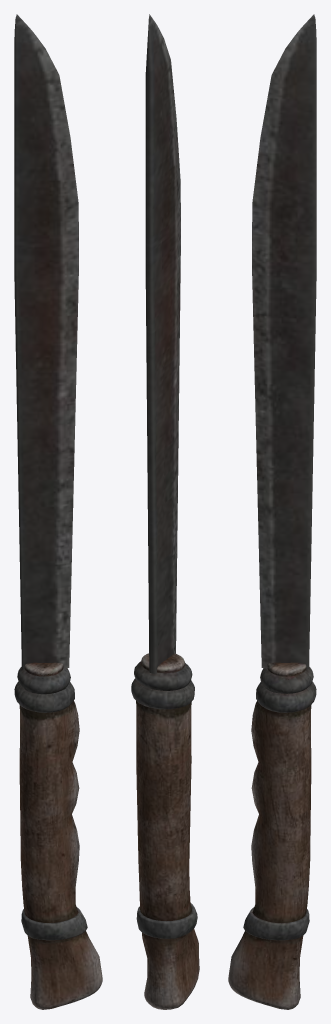
The model's file is machete.gltf.
3 views of the same model, side by side, from view 1: azimuth 90°, elevation 25°; view 2: azimuth 150°, elevation 25°; view 3: azimuth 270°, elevation 25° (orthographic).
Parts seen in each view (by area): view 1: machete; view 2: machete; view 3: machete.
Boxes of the visible parts, left/top/right/bottom form: machete: left=14, top=14, right=102, bottom=1009; machete: left=131, top=14, right=199, bottom=1009; machete: left=228, top=14, right=316, bottom=1009.
Size of the model in its own units: 0.0444 by 0.7548 by 0.0611.
Materials: 1 (1 with a texture image).
